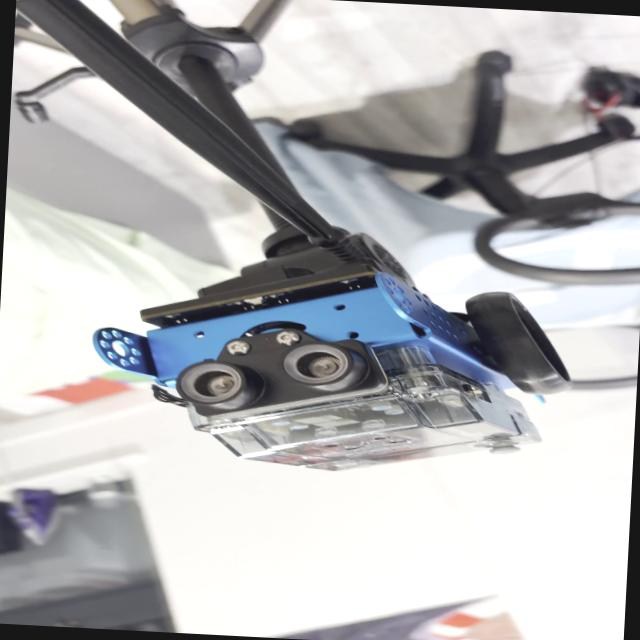mbot-detection: (71, 248, 591, 492)
